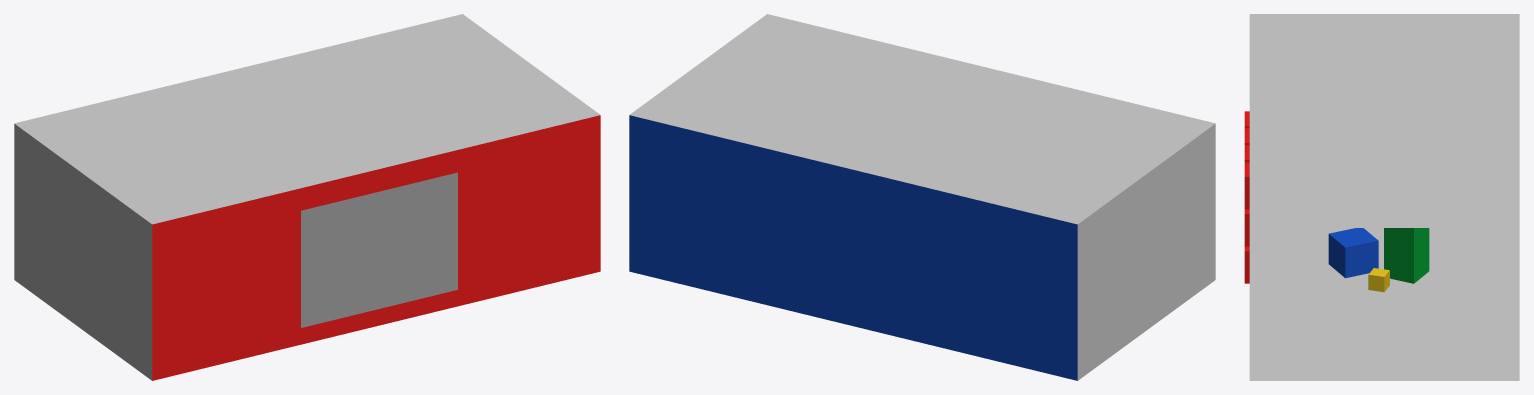
The model's file is cubebox_subdivided.obj.
3 renders of one model, left to right at view 1: azimuth 30°, elevation 25°; view 2: azimuth 150°, elevation 25°; view 3: azimuth 270°, elevation 25°, orthographic. The views are drawn at different scales.
Parts seen in each view (by area): view 1: walls, leftWall, light; view 2: walls, rightWall; view 3: walls, rightCube, leftCube, leftWall, midCube.
Boxes of the visible parts, x1=… form: walls: x1=14, y1=14, x2=600, y2=380; leftWall: x1=152, y1=115, x2=600, y2=380; light: x1=301, y1=172, x2=457, y2=327; walls: x1=629, y1=14, x2=1215, y2=380; rightWall: x1=629, y1=115, x2=1077, y2=380; walls: x1=1249, y1=14, x2=1519, y2=380; rightCube: x1=1384, y1=228, x2=1429, y2=283; leftCube: x1=1328, y1=228, x2=1378, y2=278; leftWall: x1=1244, y1=111, x2=1249, y2=283; midCube: x1=1368, y1=268, x2=1389, y2=292.
Size of the model in its own units: 6 by 2 by 3.26.
